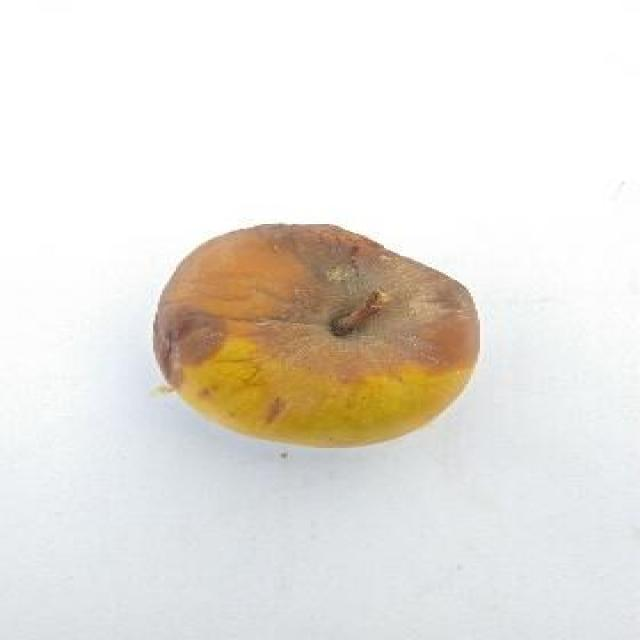Apple: (145, 222, 482, 460)
